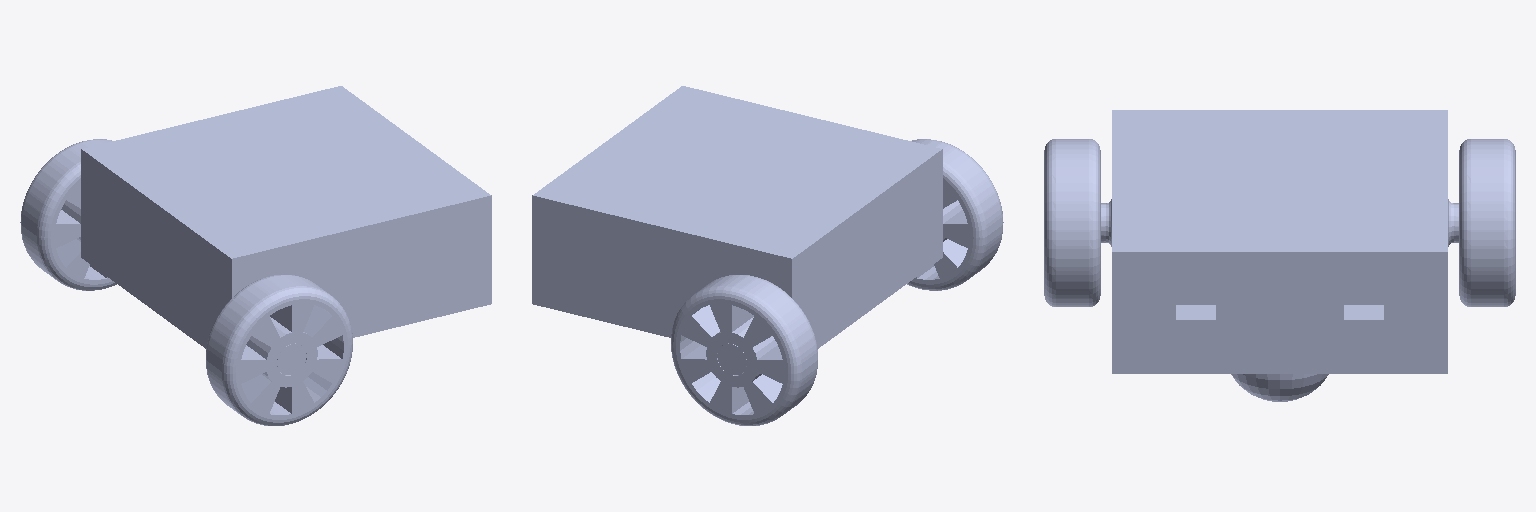
robot.urdf — nevil:
<?xml version="1.0" encoding="utf-8"?>
<!-- This URDF was automatically created by SolidWorks to URDF Exporter! Originally created by [author] ([email redacted]) 
     Commit Version: 1.6.0-4-g7f85cfe  Build Version: 1.6.7995.38578
     For more information, please see http://wiki.ros.org/sw_urdf_exporter -->
<robot
  name="nevil">
  <link
    name="base_link">
    <inertial>
      <origin
        xyz="0.001107 0.057697 -3.4568E-17"
        rpy="0 0 0" />
      <mass
        value="11.198" />
      <inertia
        ixx="0.099787"
        ixy="0.0014599"
        ixz="-1.1623E-17"
        iyy="0.17007"
        iyz="-3.1681E-18"
        izz="0.099885" />
    </inertial>
    <visual>
      <origin
        xyz="0 0 0"
        rpy="0 0 0" />
      <geometry>
        <mesh
          filename="package://nevil/meshes/base_link.STL" />
      </geometry>
      <material
        name="">
        <color
          rgba="0.79216 0.81961 0.93333 1" />
      </material>
    </visual>
    <collision>
      <origin
        xyz="0 0 0"
        rpy="0 0 0" />
      <geometry>
        <mesh
          filename="package://nevil/meshes/base_link.STL" />
      </geometry>
    </collision>
  </link>
  <link
    name="left_link">
    <inertial>
      <origin
        xyz="-1.3878E-17 0 0.025"
        rpy="0 0 0" />
      <mass
        value="0.60379" />
      <inertia
        ixx="0.0010679"
        ixy="-1.3235E-20"
        ixz="7.031E-21"
        iyy="0.0010679"
        iyz="-1.8115E-20"
        izz="0.0018964" />
    </inertial>
    <visual>
      <origin
        xyz="0 0 0"
        rpy="0 0 0" />
      <geometry>
        <mesh
          filename="package://nevil/meshes/left_link.STL" />
      </geometry>
      <material
        name="">
        <color
          rgba="0.79216 0.81961 0.93333 1" />
      </material>
    </visual>
    <collision>
      <origin
        xyz="0 0 0"
        rpy="0 0 0" />
      <geometry>
        <mesh
          filename="package://nevil/meshes/left_link.STL" />
      </geometry>
    </collision>
  </link>
  <joint
    name="lj"
    type="revolute">
    <origin
      xyz="-0.115 -0.16 0.025"
      rpy="1.5708 0 0" />
    <parent
      link="base_link" />
    <child
      link="left_link" />
    <axis
      xyz="0 0 1" />
    <limit
      lower="0"
      upper="0"
      effort="0"
      velocity="0" />
  </joint>
  <link
    name="right_link">
    <inertial>
      <origin
        xyz="-1.3878E-17 0 -0.025"
        rpy="0 0 0" />
      <mass
        value="0.60379" />
      <inertia
        ixx="0.0010679"
        ixy="-1.1994E-20"
        ixz="1.2408E-20"
        iyy="0.0010679"
        iyz="-1.7784E-20"
        izz="0.0018964" />
    </inertial>
    <visual>
      <origin
        xyz="0 0 0"
        rpy="0 0 0" />
      <geometry>
        <mesh
          filename="package://nevil/meshes/right_link.STL" />
      </geometry>
      <material
        name="">
        <color
          rgba="0.79216 0.81961 0.93333 1" />
      </material>
    </visual>
    <collision>
      <origin
        xyz="0 0 0"
        rpy="0 0 0" />
      <geometry>
        <mesh
          filename="package://nevil/meshes/right_link.STL" />
      </geometry>
    </collision>
  </link>
  <joint
    name="rj"
    type="revolute">
    <origin
      xyz="-0.115 0.16 0.025"
      rpy="1.5708 0 0" />
    <parent
      link="base_link" />
    <child
      link="right_link" />
    <axis
      xyz="0 0 -1" />
    <limit
      lower="0"
      upper="0"
      effort="0"
      velocity="0" />
  </joint>
  <link
    name="camera">
    <inertial>
      <origin
        xyz="0 0.014468 0"
        rpy="0 0 0" />
      <mass
        value="0.033216" />
      <inertia
        ixx="6.2425E-06"
        ixy="-3.9129E-22"
        ixz="-1.0609E-21"
        iyy="7.4037E-06"
        iyz="-4.9211E-22"
        izz="6.2425E-06" />
    </inertial>
    <visual>
      <origin
        xyz="0 0 0"
        rpy="0 0 0" />
      <geometry>
        <mesh
          filename="package://nevil/meshes/camera.STL" />
      </geometry>
      <material
        name="">
        <color
          rgba="0.79216 0.81961 0.93333 1" />
      </material>
    </visual>
    <collision>
      <origin
        xyz="0 0 0"
        rpy="0 0 0" />
      <geometry>
        <mesh
          filename="package://nevil/meshes/camera.STL" />
      </geometry>
    </collision>
  </link>
  <joint
    name="cj"
    type="fixed">
    <origin
      xyz="0.18 0.075 0.05"
      rpy="3.1416 0 -1.5708" />
    <parent
      link="base_link" />
    <child
      link="camera" />
    <axis
      xyz="0 0 0" />
  </joint>
  <link
    name="imu">
    <inertial>
      <origin
        xyz="0 0.014468 -1.3878E-17"
        rpy="0 0 0" />
      <mass
        value="0.033216" />
      <inertia
        ixx="6.2425E-06"
        ixy="-7.2219E-23"
        ixz="-3.4131E-21"
        iyy="7.4037E-06"
        iyz="-1.4026E-22"
        izz="6.2425E-06" />
    </inertial>
    <visual>
      <origin
        xyz="0 0 0"
        rpy="0 0 0" />
      <geometry>
        <mesh
          filename="package://nevil/meshes/imu.STL" />
      </geometry>
      <material
        name="">
        <color
          rgba="0.79216 0.81961 0.93333 1" />
      </material>
    </visual>
    <collision>
      <origin
        xyz="0 0 0"
        rpy="0 0 0" />
      <geometry>
        <mesh
          filename="package://nevil/meshes/imu.STL" />
      </geometry>
    </collision>
  </link>
  <joint
    name="ij"
    type="fixed">
    <origin
      xyz="0.18 -0.075 0.05"
      rpy="3.1416 0 -1.5708" />
    <parent
      link="base_link" />
    <child
      link="imu" />
    <axis
      xyz="0 0 0" />
  </joint>

  
</robot>

--- Facts derived from the render (not from the file) ---
The picture shows the robot from 3 angles, left to right: view 1: azimuth 30°, elevation 25°; view 2: azimuth 150°, elevation 25°; view 3: azimuth 270°, elevation 25°; orthographic projection.
Model nevil with 5 links and 4 joints (2 revolute, 2 fixed), rooted at base_link, posed all joints at 0.
Visible links, largest first — view 1: base_link, left_link, right_link; view 2: base_link, right_link, left_link; view 3: base_link, left_link, right_link, camera, imu.
Boxes of the visible links, x1,y1,x2,y2 form: base_link: (81,86,491,374); left_link: (206,275,352,425); right_link: (20,139,116,290); base_link: (532,86,942,374); right_link: (671,275,817,425); left_link: (907,139,1003,290); base_link: (1101,110,1458,401); left_link: (1044,139,1100,306); right_link: (1459,139,1515,306); camera: (1344,305,1383,354); imu: (1176,305,1215,354).
Size in the robot's own frame: 0.37 by 0.42 by 0.17 metres.
5 mesh visuals loaded from 5 distinct referenced files (5 binary STL).
